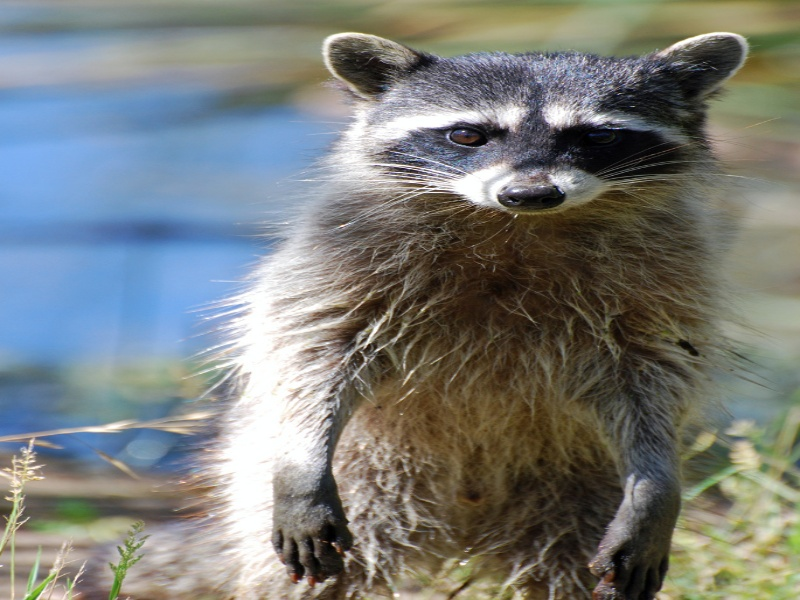raccoon: (199, 30, 752, 585)
